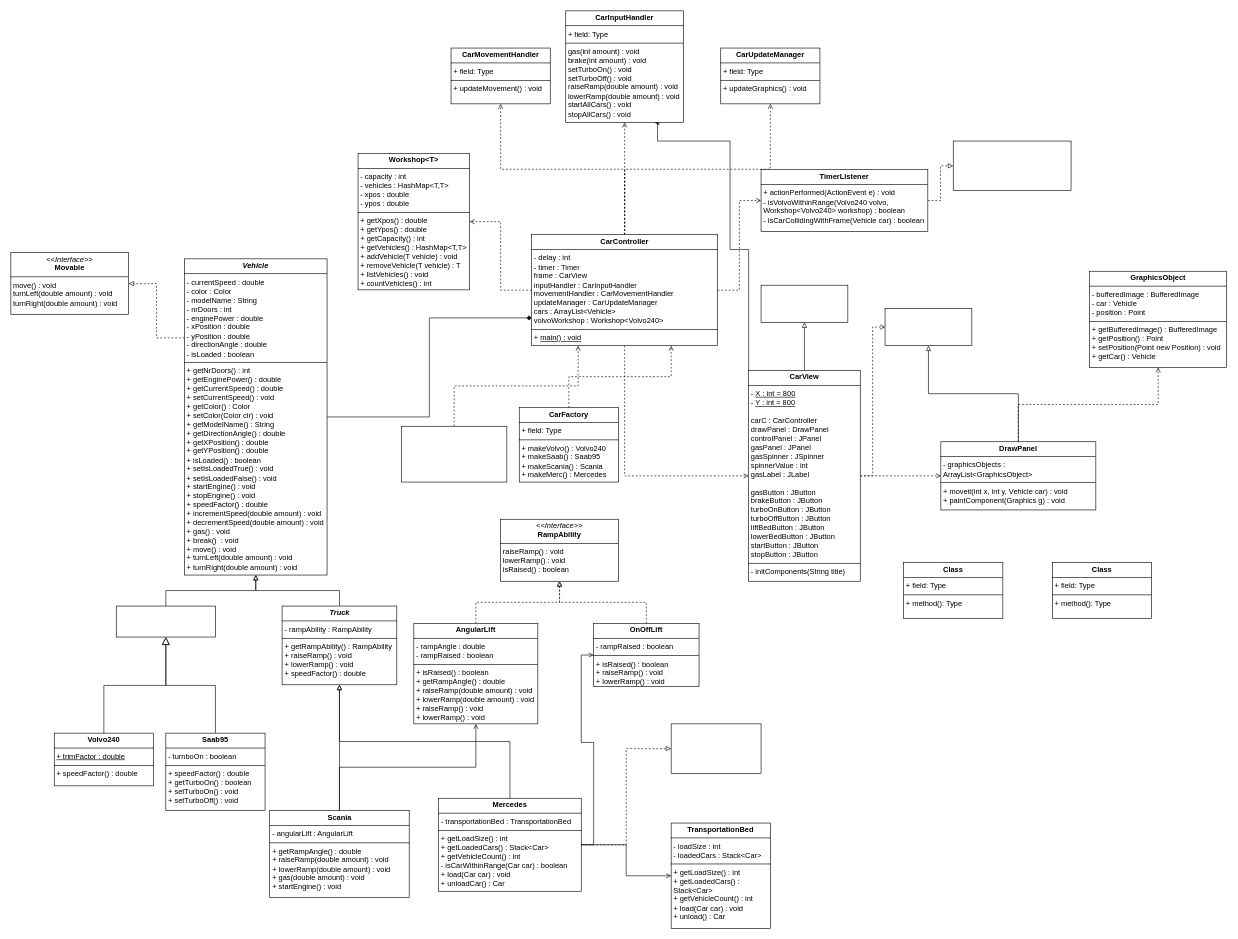
This 1238x939 diagram has some shape labels left out. The box of each missing label's shape, as (x1, y1, x2, y2) in pixels:
<<Interface>> ActionListener: (953, 140, 1071, 191)
<<Interface>> Loadable loadCar(Car car) : void unloadCar() : Car: (671, 723, 761, 773)
Car: (116, 605, 215, 637)
JFrame: (760, 285, 848, 322)
JPanel: (884, 308, 972, 346)
Main - carController : CarController + main() : void: (401, 426, 507, 482)
